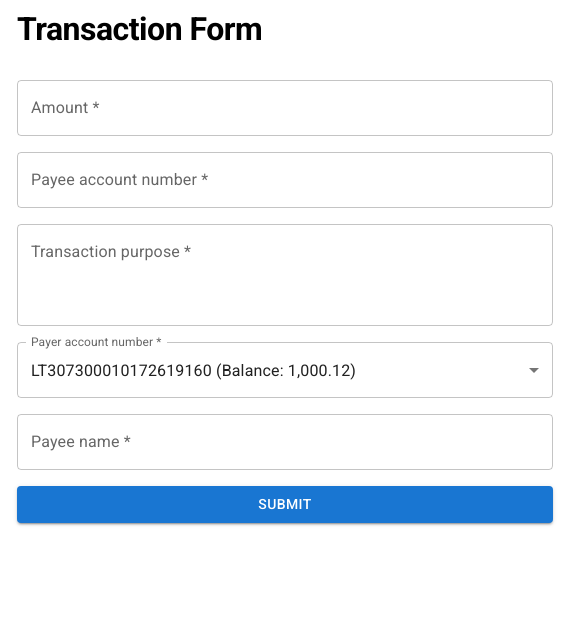
Test: TransactionForm › validates required fields
Click the button with test id "submit-button". click: [285, 505]
box: [17,486,553,523]
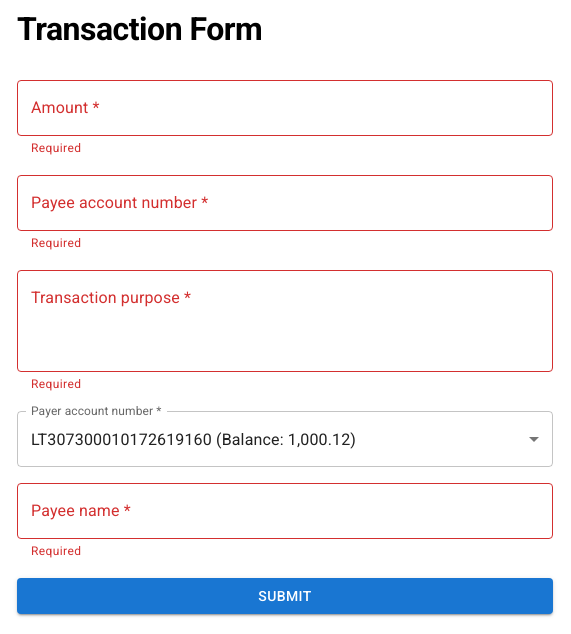
Expected: the text "Required" is shown 4 times, [31,141,81,155]; [31,236,81,250]; [31,377,81,391]; [31,544,81,558]
